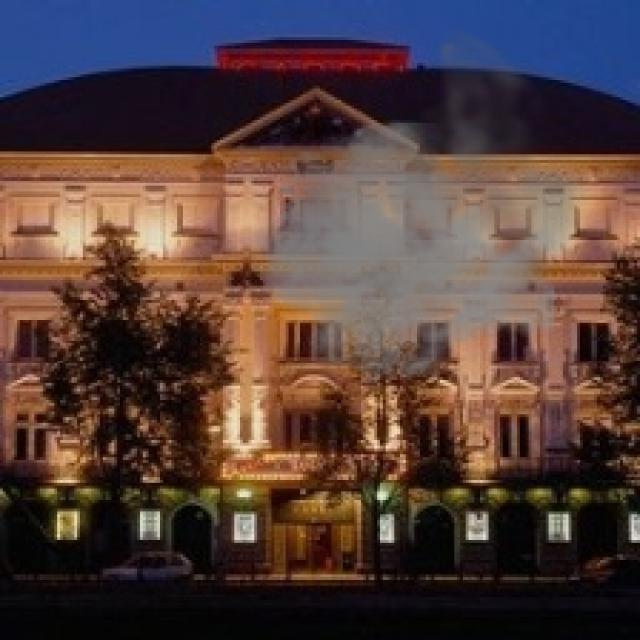smoke: (240, 26, 597, 388)
